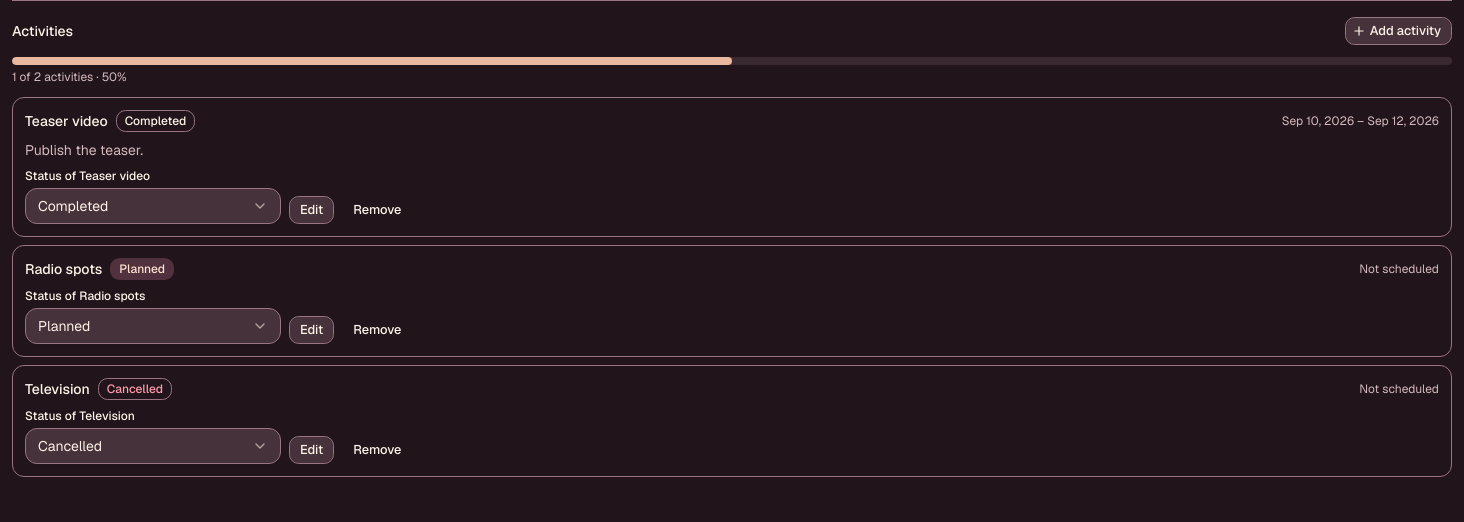
Test: CampaignActivities › removing › keeps the activity and explains when the removal fails
Expected: the text "Teaser video" is shown, [25,111,108,131]
Step 1. Click the button with aria-label "Remove Radio spots" → (377, 330), box [342,316,412,344]
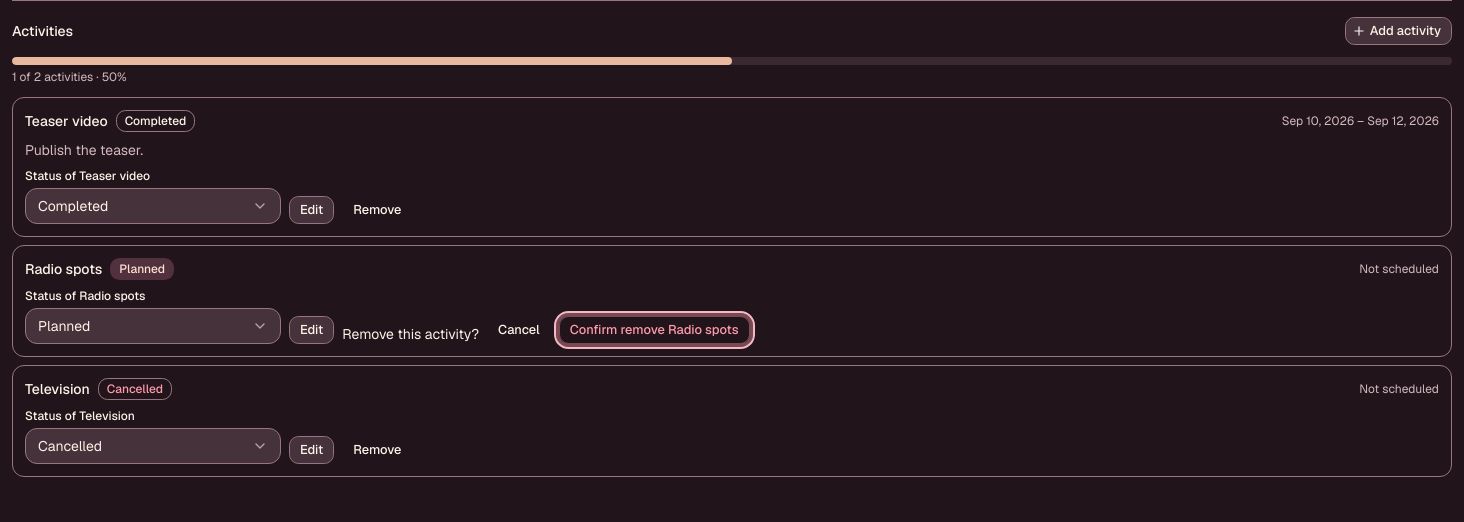
Step 2. Click the button "Confirm remove Radio spots" → (654, 330), box [559,316,750,344]
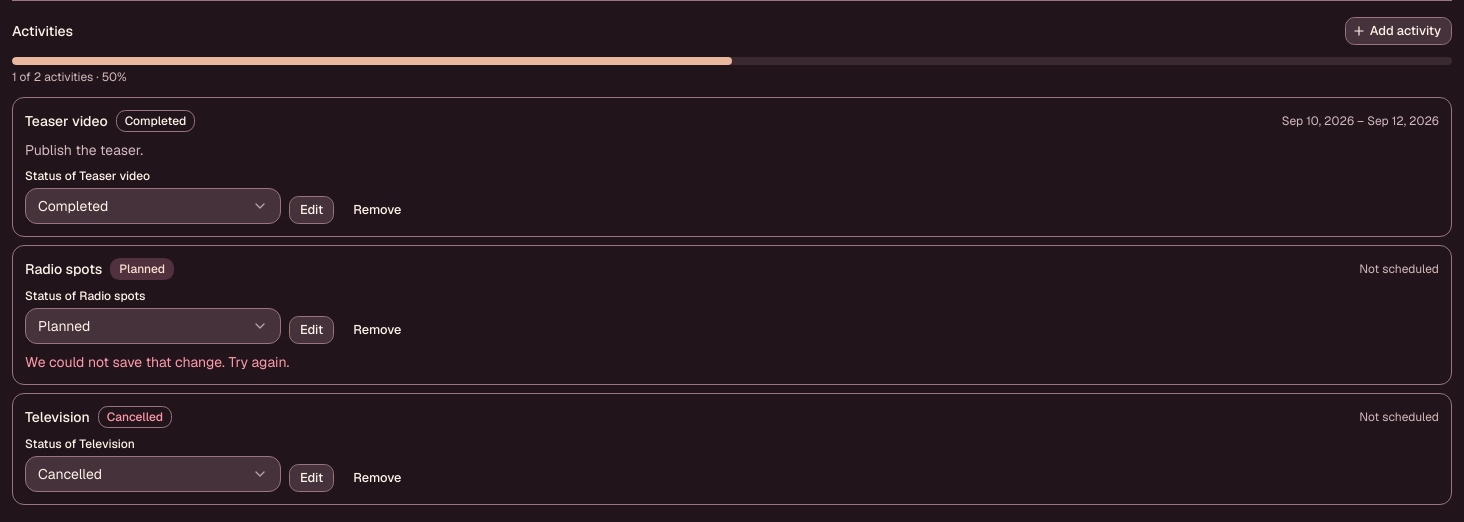
Expected: the text "Radio spots" is shown, [25,259,102,279]
Result: the text "We could not save that change. Try again." is shown at [25,353,289,371]
